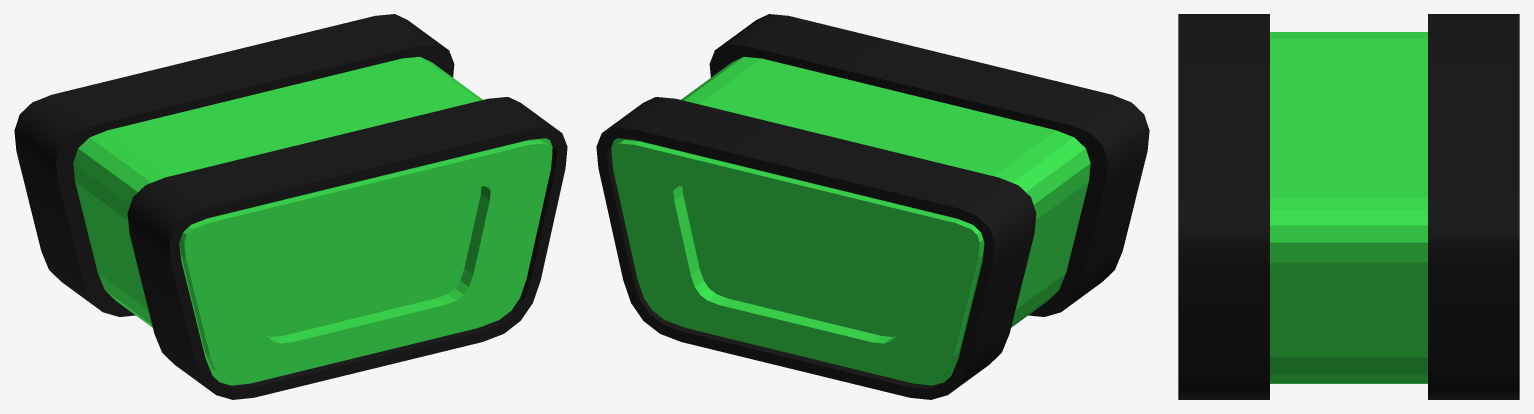
The model's file is TankBase.fbx.
3 renders of one model, left to right at view 1: azimuth 30°, elevation 25°; view 2: azimuth 150°, elevation 25°; view 3: azimuth 270°, elevation 25°, orthographic. The views are drawn at different scales.
Parts seen in each view (by area): view 1: Box001; view 2: Box001; view 3: Box001.
Part boxes in pixels (<box>): Box001: <box>14,14,567,399</box>; Box001: <box>596,14,1149,399</box>; Box001: <box>1178,14,1519,399</box>.
Bounding box in the file's own units: 68.14 × 32.9 × 45.87.
